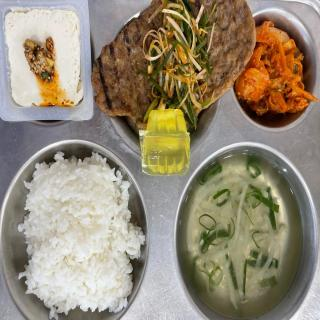Nasi: (16, 149, 152, 320)
